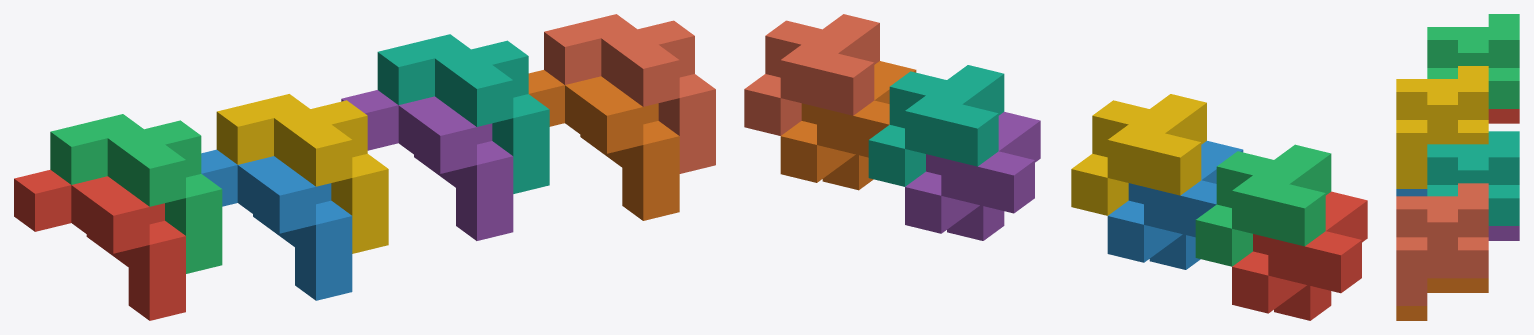
The model's file is tiling.obj.
3 views of the same model, side by side, from view 1: azimuth 30°, elevation 25°; view 2: azimuth 150°, elevation 25°; view 3: azimuth 270°, elevation 25° (orthographic). The views are drawn at different scales.
Parts seen in each view (by area): view 1: copy_1_domain_3, copy_1_domain_7, copy_1_domain_4, copy_1_domain_8, copy_1_domain_1, copy_1_domain_5, copy_1_domain_2, copy_1_domain_6; view 2: copy_1_domain_3, copy_1_domain_7, copy_1_domain_4, copy_1_domain_8, copy_1_domain_1, copy_1_domain_5, copy_1_domain_6, copy_1_domain_2; view 3: copy_1_domain_8, copy_1_domain_4, copy_1_domain_7, copy_1_domain_3, copy_1_domain_6, copy_1_domain_1, copy_1_domain_5, copy_1_domain_2.
Part boxes in pixels (x1=…): copy_1_domain_3: x1=50, y1=114, x2=222, y2=273; copy_1_domain_7: x1=377, y1=34, x2=549, y2=193; copy_1_domain_4: x1=216, y1=94, x2=388, y2=253; copy_1_domain_8: x1=544, y1=14, x2=715, y2=173; copy_1_domain_1: x1=14, y1=169, x2=185, y2=320; copy_1_domain_5: x1=341, y1=90, x2=513, y2=240; copy_1_domain_2: x1=201, y1=149, x2=352, y2=300; copy_1_domain_6: x1=528, y1=70, x2=679, y2=220; copy_1_domain_3: x1=1195, y1=144, x2=1331, y2=266; copy_1_domain_7: x1=868, y1=65, x2=1004, y2=186; copy_1_domain_4: x1=1071, y1=94, x2=1206, y2=215; copy_1_domain_8: x1=744, y1=14, x2=879, y2=135; copy_1_domain_1: x1=1232, y1=191, x2=1367, y2=320; copy_1_domain_5: x1=905, y1=111, x2=1040, y2=240; copy_1_domain_6: x1=780, y1=61, x2=916, y2=190; copy_1_domain_2: x1=1107, y1=141, x2=1243, y2=269; copy_1_domain_8: x1=1396, y1=183, x2=1488, y2=305; copy_1_domain_4: x1=1396, y1=66, x2=1488, y2=188; copy_1_domain_7: x1=1427, y1=131, x2=1519, y2=225; copy_1_domain_3: x1=1427, y1=14, x2=1519, y2=108; copy_1_domain_6: x1=1396, y1=278, x2=1488, y2=320; copy_1_domain_1: x1=1488, y1=109, x2=1519, y2=123; copy_1_domain_5: x1=1488, y1=226, x2=1519, y2=240; copy_1_domain_2: x1=1396, y1=189, x2=1427, y2=196.
Size of the model in its own units: 17 by 4 by 4.
